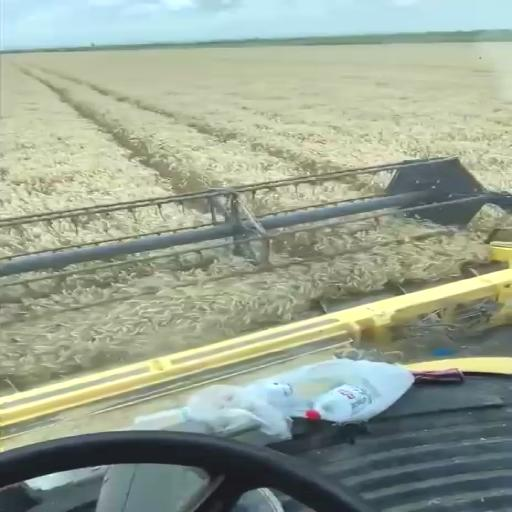bugday: (1, 44, 512, 207)
